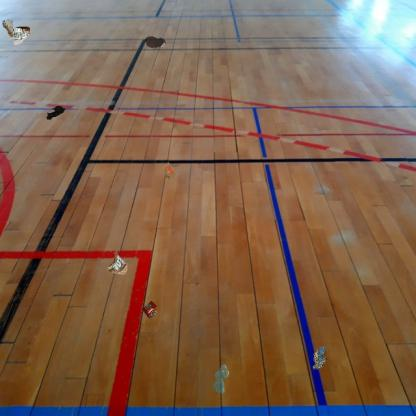dirty: (1, 18, 33, 46), (106, 251, 129, 276), (139, 298, 160, 321), (312, 345, 327, 370), (161, 161, 178, 182), (44, 104, 66, 119)
liquid: (212, 364, 230, 394), (144, 35, 166, 49)
